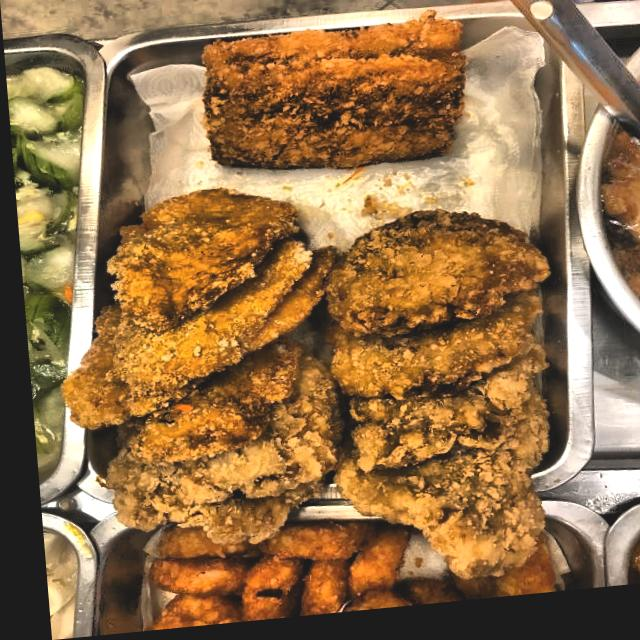Food: (88, 193, 532, 531), (126, 501, 548, 633)
